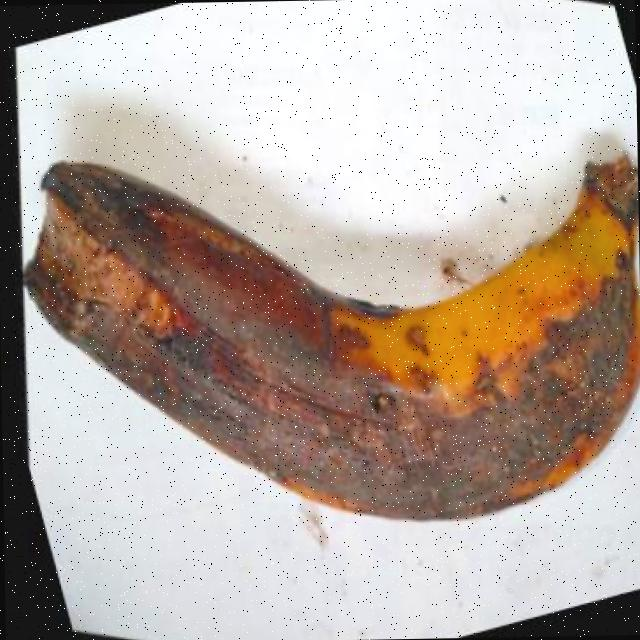Rotten: (0, 68, 640, 564)
